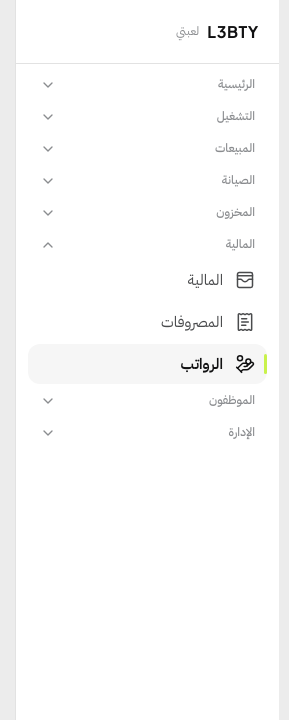
Sidebar › opens only the current section so the full sidebar fits without scrolling
The image size is (289, 720).
Click the button "التشغيل" at (148, 117), box [28,102,267,132]
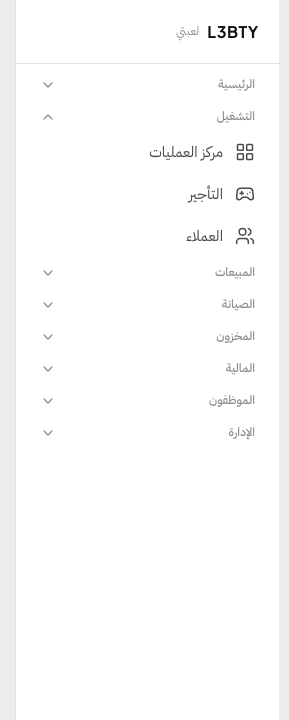
Expected: the button "التشغيل" is expanded, [28,102,267,132]
Expected: the button "المالية" is collapsed, [28,354,267,384]
